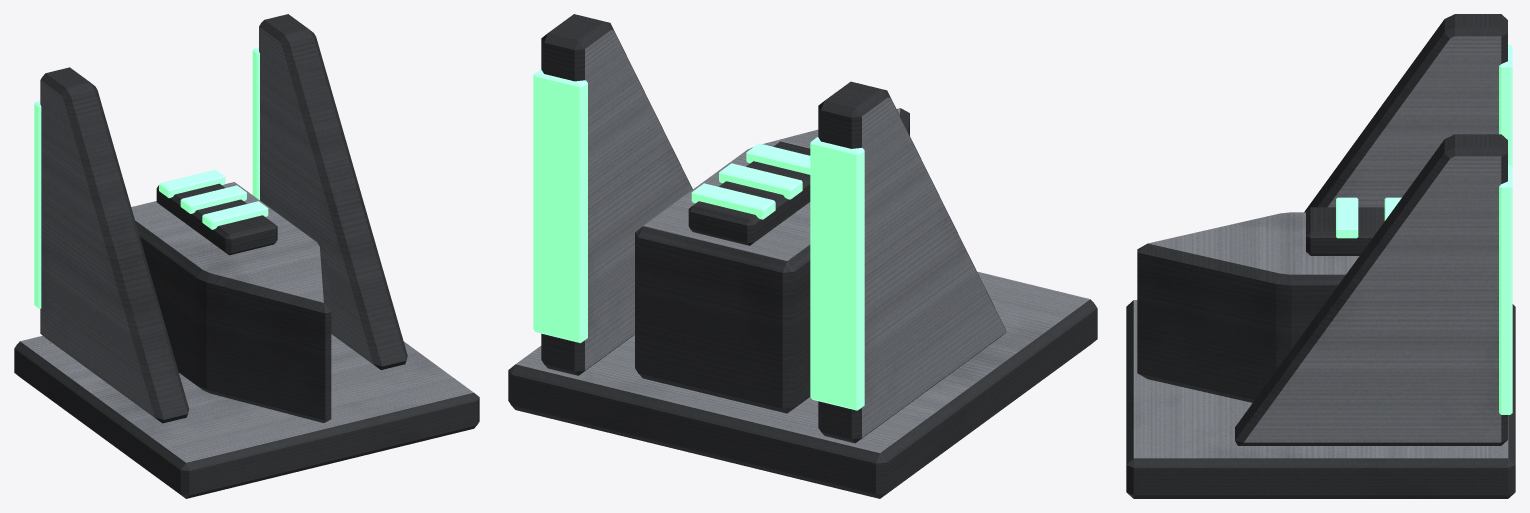
The model's file is R4X_MobilityBooster_LOD1.glb.
3 views of the same model, side by side, from view 1: azimuth 30°, elevation 25°; view 2: azimuth 150°, elevation 25°; view 3: azimuth 270°, elevation 25° (orthographic). The views are drawn at different scales.
Visible parts, largest first — view 1: R4X_MobilityBooster_LOD1; view 2: R4X_MobilityBooster_LOD1; view 3: R4X_MobilityBooster_LOD1.
Boxes of the visible parts, x1,y1,x2,y2 form: R4X_MobilityBooster_LOD1: (14, 14, 479, 498); R4X_MobilityBooster_LOD1: (508, 14, 1097, 498); R4X_MobilityBooster_LOD1: (1126, 14, 1515, 498).
Size of the model in its own units: 0.52 by 0.5 by 0.52.
Materials: 3 (2 with a texture image).
